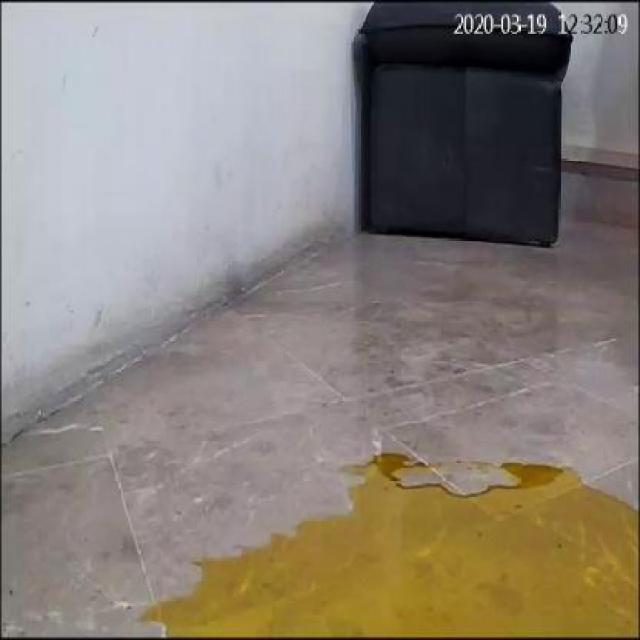spill: (147, 452, 638, 634)
